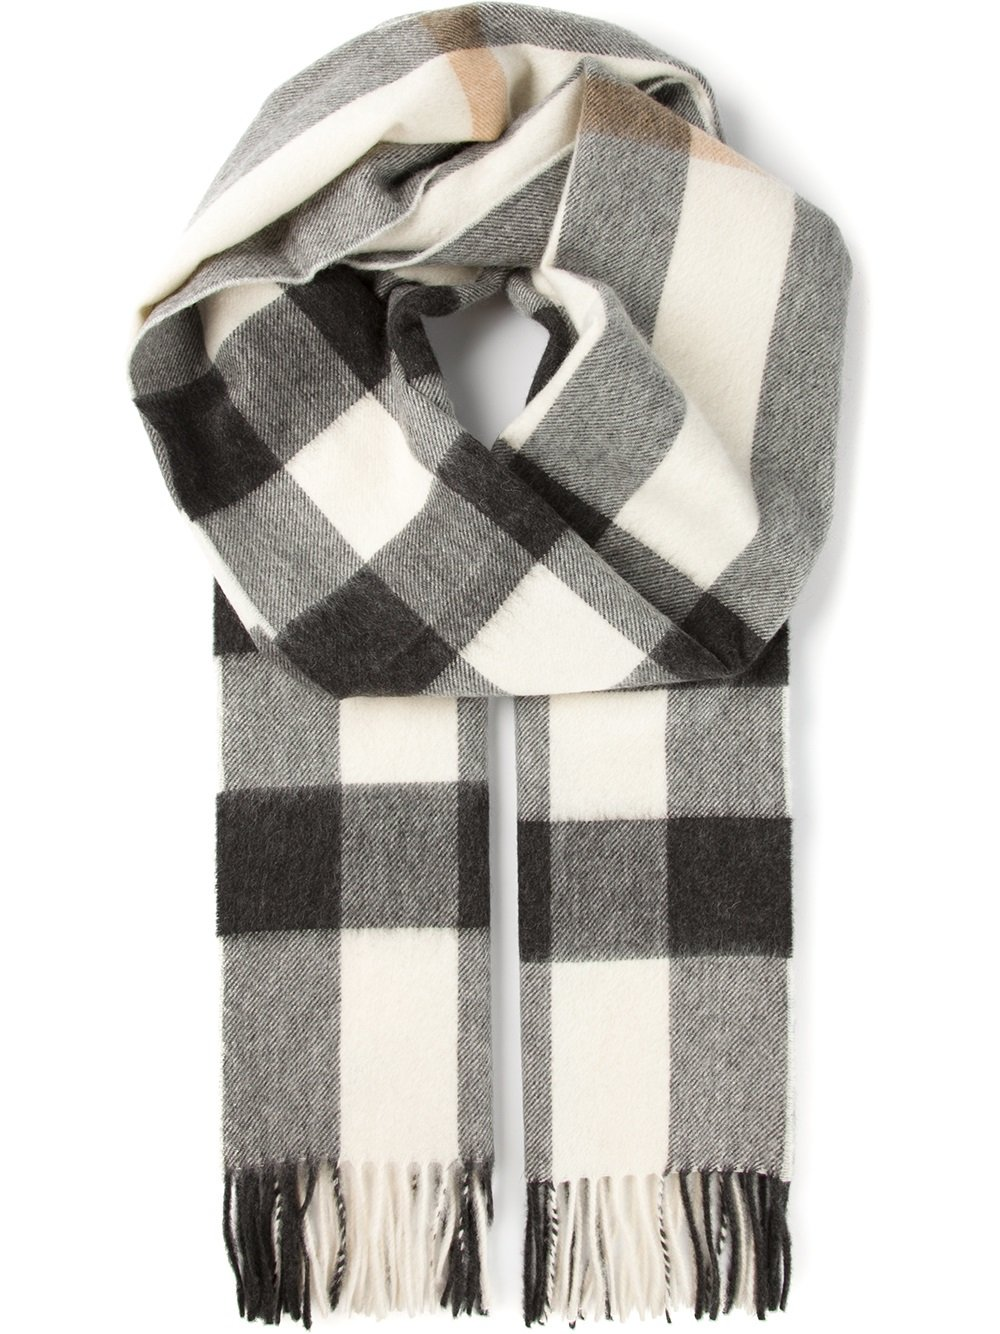flexible: (132, 2, 859, 1334)
